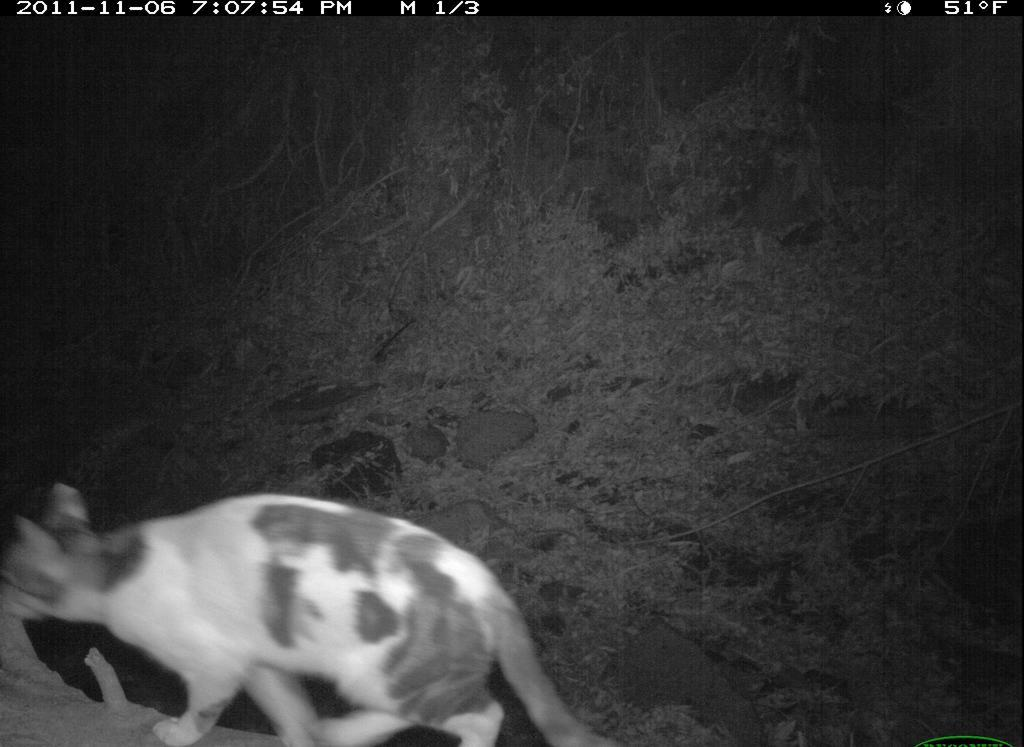cat: (2, 477, 642, 747)
